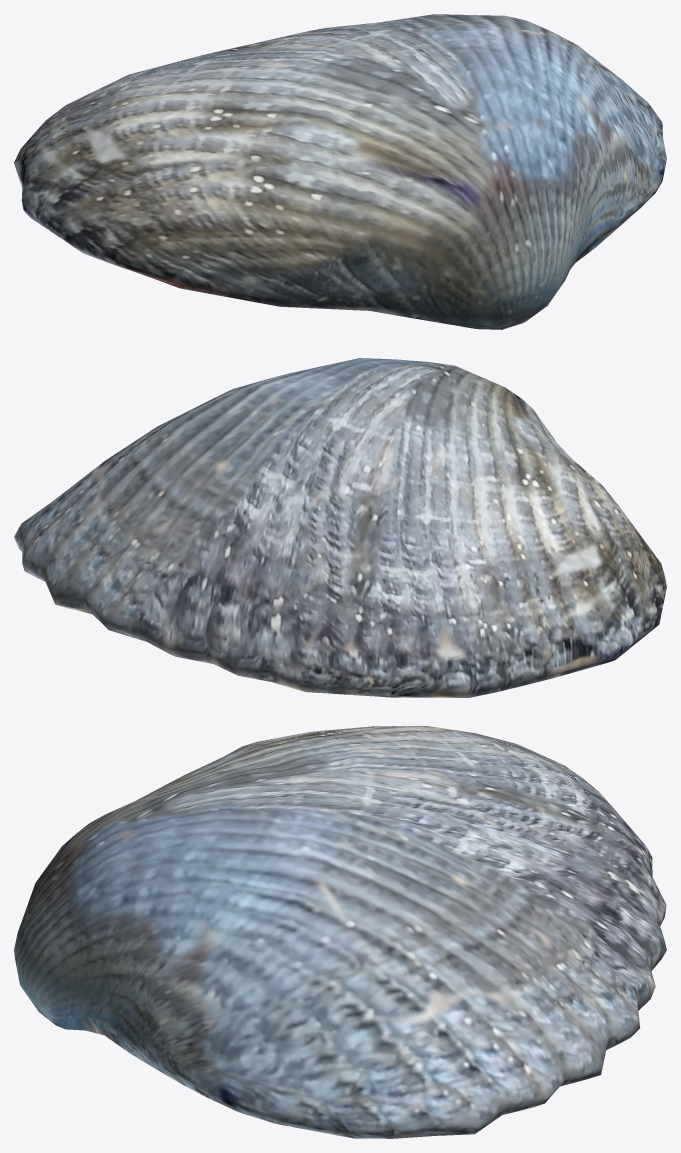
Rendered from Cockle2.fbx.
3 renders of one model, top to bottom at view 1: azimuth 30°, elevation 25°; view 2: azimuth 150°, elevation 25°; view 3: azimuth 270°, elevation 25°, orthographic. The views are drawn at different scales.
Parts seen in each view (by area): view 1: Cockle2_LOD0; view 2: Cockle2_LOD0; view 3: Cockle2_LOD0.
Boxes of the visible parts, x1=… form: Cockle2_LOD0: x1=14, y1=14, x2=666, y2=329; Cockle2_LOD0: x1=14, y1=358, x2=666, y2=697; Cockle2_LOD0: x1=14, y1=726, x2=666, y2=1138.
Size of what is drawn, in the model's own units: 22.4 by 7.14 by 18.44.
